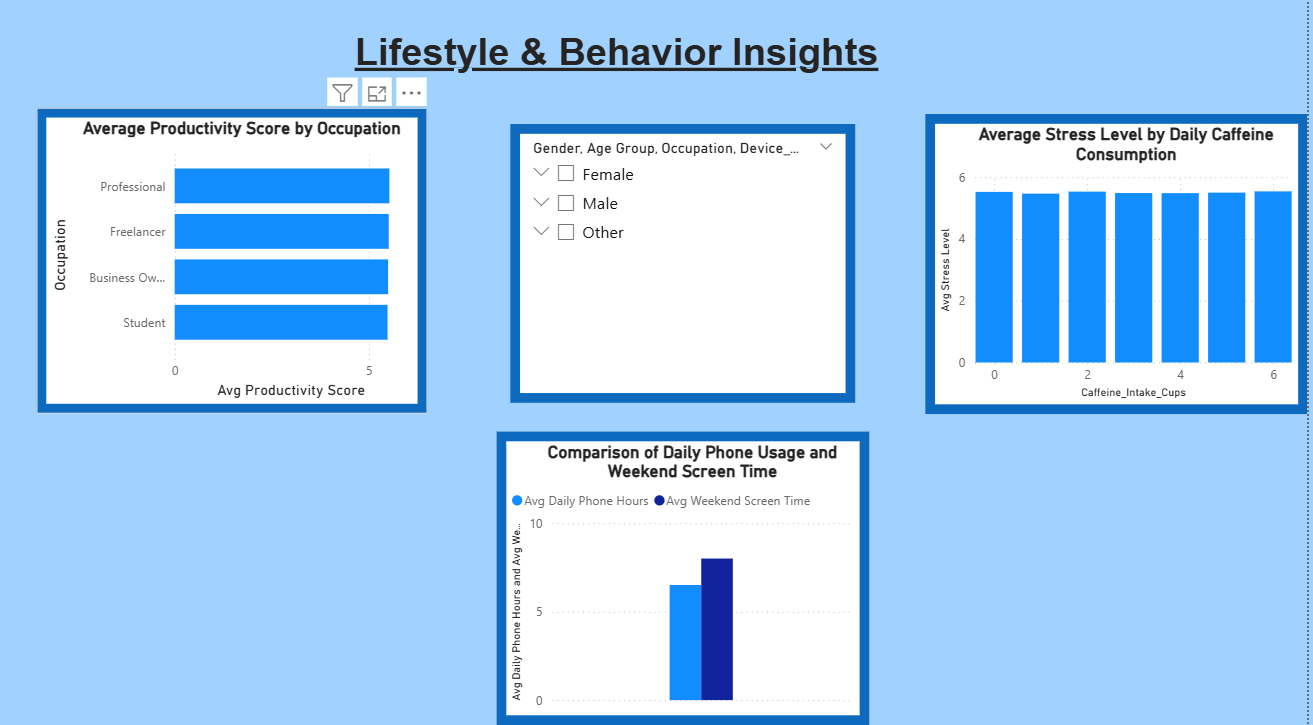

Layout of this report page (visuals, bound fields, positions):
{"tool":"powerbi","page":{"name":"Page 3","canvas":[1280,720],"ordinal":2},"visuals":[{"type":"textbox","box":[326.5,35.5,555.2,68.5],"z":0},{"type":"barChart","title":"Average Productivity Score by Occupation","fields":{"Category":["Smartphone_Usage_Productivity_Dataset_50000.Occupation"],"Y":["Smartphone_Usage_Productivity_Dataset_50000.Avg Productivity Score"]},"box":[36.7,116.2,382.7,299.6],"z":1000},{"type":"columnChart","title":"Average Stress Level by Daily Caffeine Consumption","fields":{"Y":["Smartphone_Usage_Productivity_Dataset_50000.Avg Stress Level"],"Category":["Smartphone_Usage_Productivity_Dataset_50000.Caffeine_Intake_Cups"]},"box":[906.1,122.3,374.2,293.5],"z":2000},{"type":"clusteredColumnChart","title":"Comparison of Daily Phone Usage and Weekend Screen Time","fields":{"Y":["Smartphone_Usage_Productivity_Dataset_50000.Avg Daily Phone Hours","Smartphone_Usage_Productivity_Dataset_50000.Avg Weekend Screen Time"]},"box":[486.7,432.9,364.4,287.4],"z":3000},{"type":"slicer","fields":{"Values":["Smartphone_Usage_Productivity_Dataset_50000.Gender","Smartphone_Usage_Productivity_Dataset_50000.Age Group","Smartphone_Usage_Productivity_Dataset_50000.Occupation","Smartphone_Usage_Productivity_Dataset_50000.Device_Type"]},"box":[500.1,132.1,337.5,272.7],"z":4000}]}

Visuals, with their boxes in screenshot pixels (x1, y1, x2, y2), scaled from the page's 1280x720 canvas onto the 1313x725 screenshot:
textbox: 335/36/904/105
"Average Productivity Score by Occupation" barChart: 38/117/430/419
"Average Stress Level by Daily Caffeine Consumption" columnChart: 929/123/1312/419
"Comparison of Daily Phone Usage and Weekend Screen Time" clusteredColumnChart: 499/436/873/724
slicer - Smartphone_Usage_Productivity_Dataset_50000.Gender x Smartphone_Usage_Productivity_Dataset_50000.Age Group: 513/133/859/408
